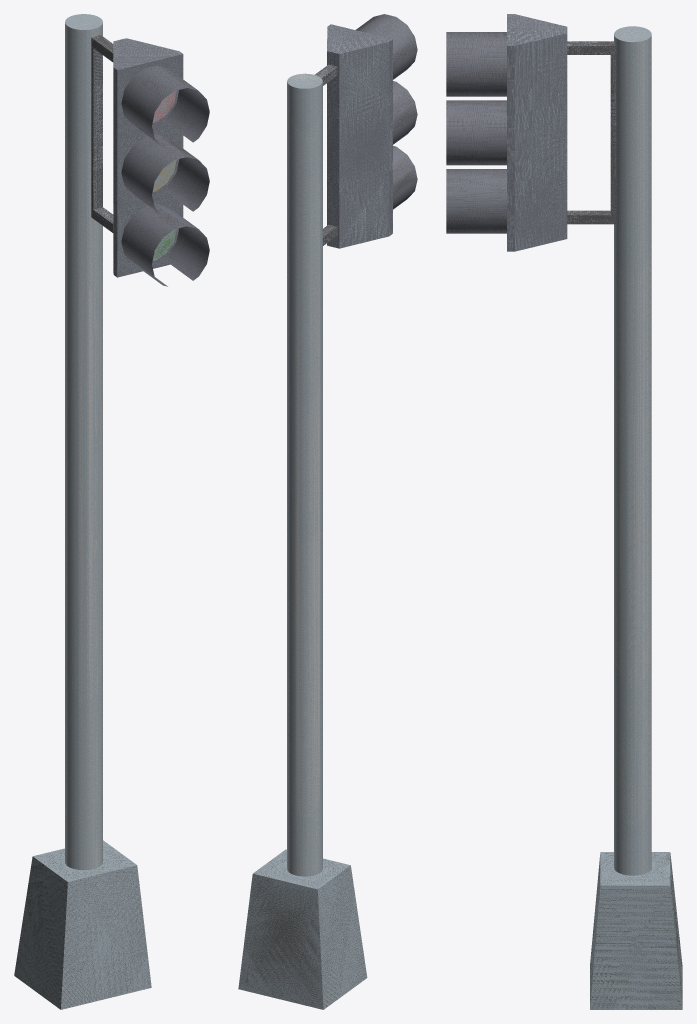
Rendered from traficLights.fbx.
3 renders of one model, left to right at view 1: azimuth 30°, elevation 25°; view 2: azimuth 150°, elevation 25°; view 3: azimuth 270°, elevation 25°, orthographic. The views are drawn at different scales.
Visible parts, largest first — view 1: two_way_traffic_light_on_post1, light_1_1, light_1_3, light_1_2, traffic_arm_1_1, traffic_arm_1_2; view 2: two_way_traffic_light_on_post1, light_1_1, light_1_3, light_1_2; view 3: two_way_traffic_light_on_post1, light_1_1, light_1_3, light_1_2, traffic_arm_1_1, traffic_arm_1_2.
Boxes of the visible parts, x1,y1,x2,y2 form: two_way_traffic_light_on_post1: [14, 14, 176, 1009]; light_1_1: [113, 38, 209, 148]; light_1_3: [113, 126, 209, 217]; light_1_2: [113, 195, 209, 286]; traffic_arm_1_1: [91, 34, 113, 169]; traffic_arm_1_2: [91, 85, 113, 232]; two_way_traffic_light_on_post1: [238, 73, 367, 1009]; light_1_1: [327, 14, 417, 118]; light_1_3: [327, 81, 417, 183]; light_1_2: [327, 146, 417, 248]; two_way_traffic_light_on_post1: [590, 26, 682, 1009]; light_1_1: [446, 14, 567, 114]; light_1_3: [446, 100, 567, 183]; light_1_2: [446, 169, 567, 251]; traffic_arm_1_1: [567, 41, 616, 176]; traffic_arm_1_2: [567, 94, 616, 224].
Size of the model in its own units: 13.75 by 140 by 31.21.
